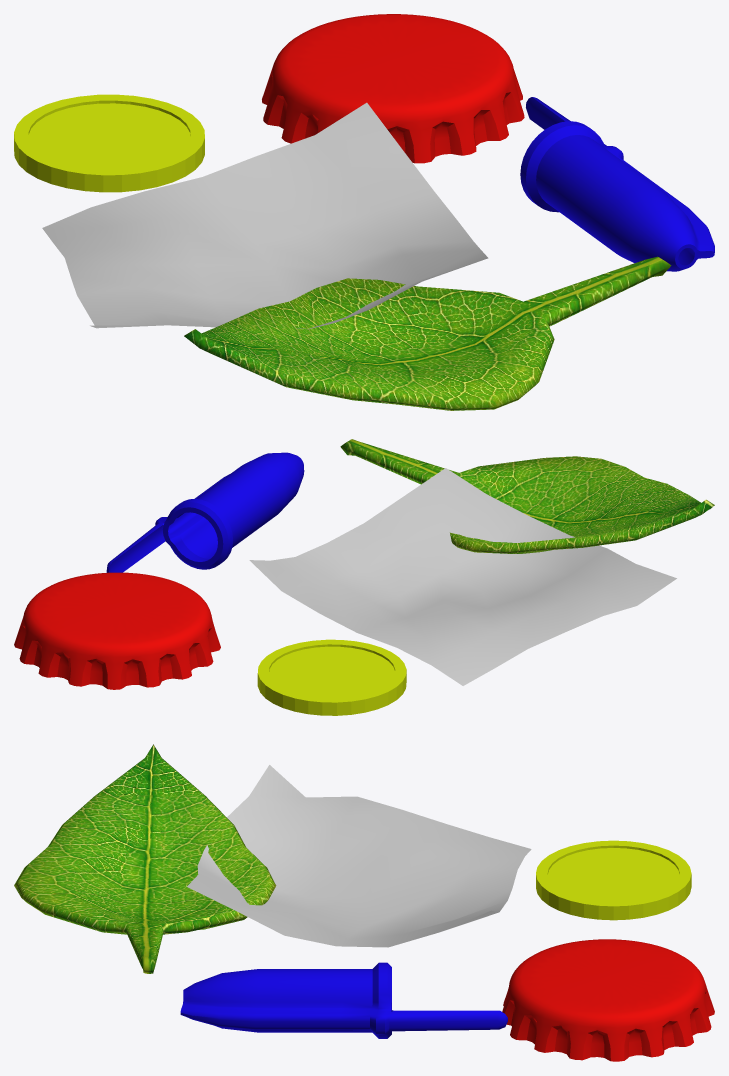
File: Props_lvl2.fbx
The picture shows the model from 3 angles, top to bottom: view 1: azimuth 30°, elevation 25°; view 2: azimuth 150°, elevation 25°; view 3: azimuth 270°, elevation 25°; orthographic projection. The views are drawn at different scales.
Visible parts, largest first — view 1: JaraPetal, Leaf, BottleCap, PenCap, Euro; view 2: JaraPetal, BottleCap, Leaf, PenCap, Euro; view 3: JaraPetal, Leaf, BottleCap, PenCap, Euro.
Boxes of the visible parts, box(x1,y1,x2,y2) form: JaraPetal: box(42, 102, 488, 329); Leaf: box(184, 256, 671, 410); BottleCap: box(262, 14, 524, 163); PenCap: box(520, 97, 714, 271); Euro: box(14, 94, 204, 192); JaraPetal: box(249, 468, 676, 685); BottleCap: box(14, 572, 220, 689); Leaf: box(340, 439, 714, 553); PenCap: box(106, 452, 304, 572); Euro: box(257, 639, 406, 715); JaraPetal: box(187, 765, 531, 947); Leaf: box(14, 744, 276, 973); BottleCap: box(502, 939, 714, 1061); PenCap: box(180, 962, 507, 1038); Euro: box(536, 840, 691, 920).
Bounding box in the file's own units: 14.82 × 12.43 × 2.05.
